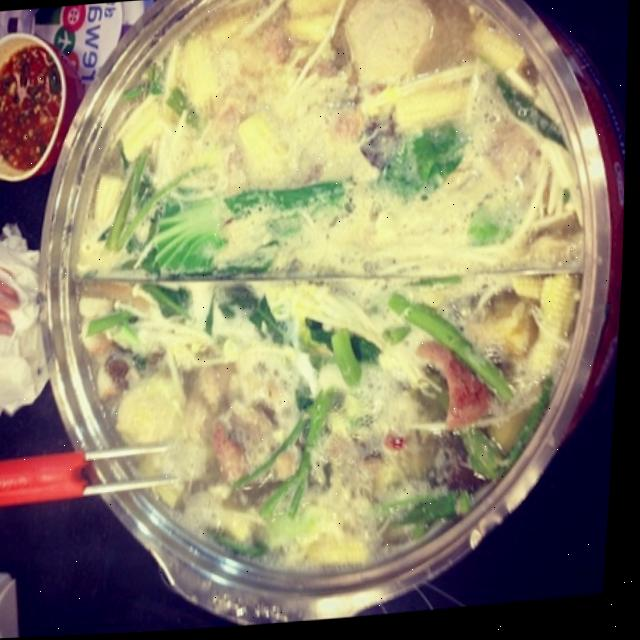汤锅炖物: (17, 0, 629, 610)
